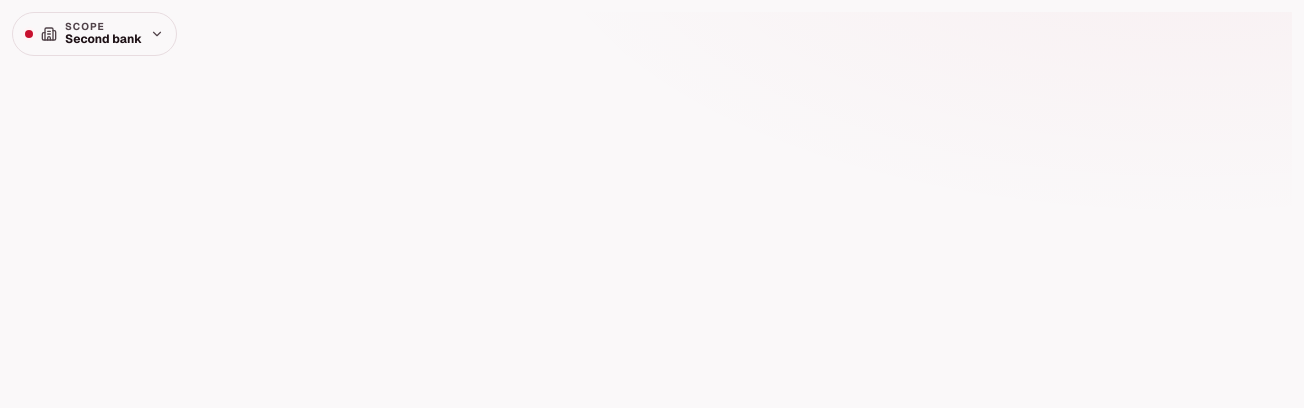
organization switcher keyboard behaviour › lets Tab advance between options and Escape close with focus restored
The width and height of the screenshot is (1304, 408).
Click the button named "Active organization": (94, 34) [12,12,177,56]
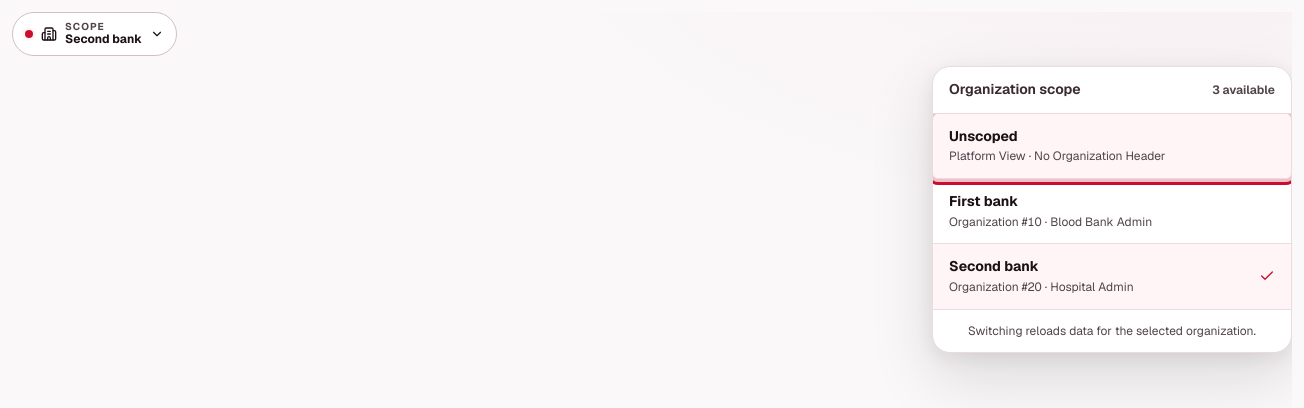
Result: the number of options is 3 at [933,114,1291,179]; [933,179,1291,244]; [933,244,1291,310]
Press Tab
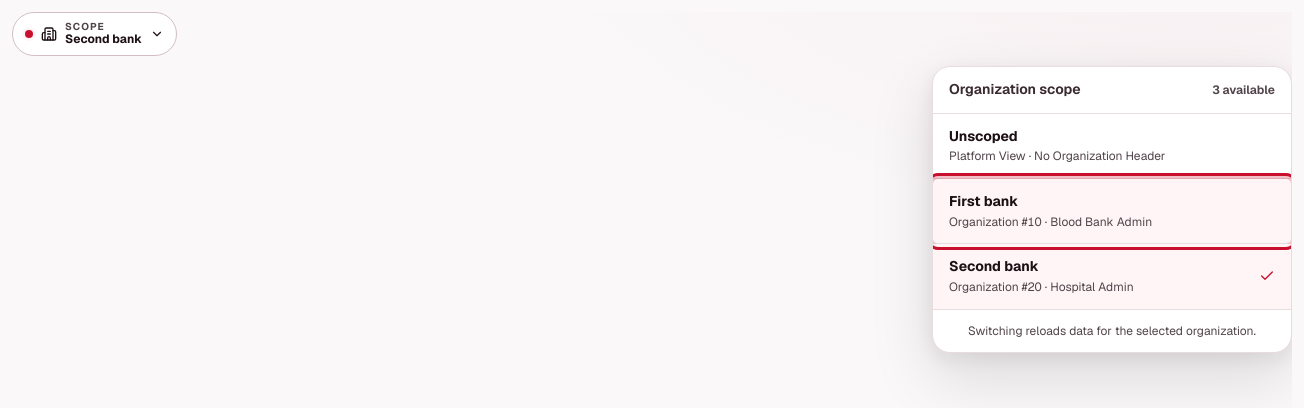
Result: the list named "Active organization" is shown at [932,66,1292,353]
Press Escape
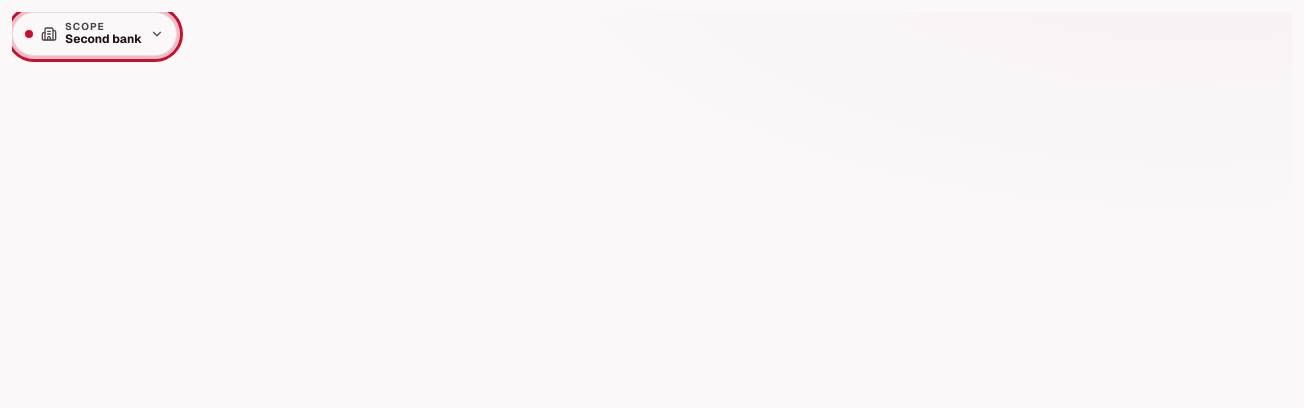
Result: the list is gone
